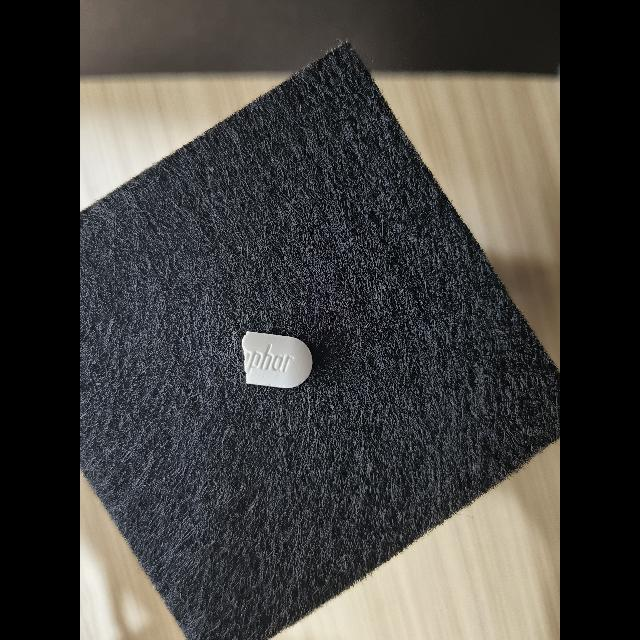Chipped Pill: (242, 331, 312, 388)
